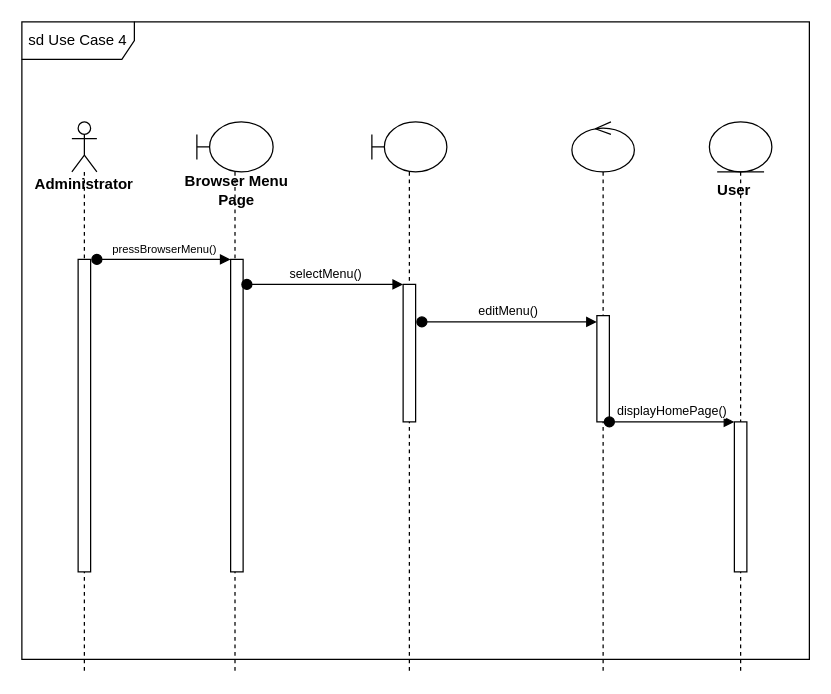
Image size: 831x694. Some labels were removed from this diagram. The box of each missing label's shape, as (x1, y1, x2, y2) in pixels:
Manage Item Controller: (571, 121, 634, 672)
Manage Item Page: (371, 121, 447, 672)
